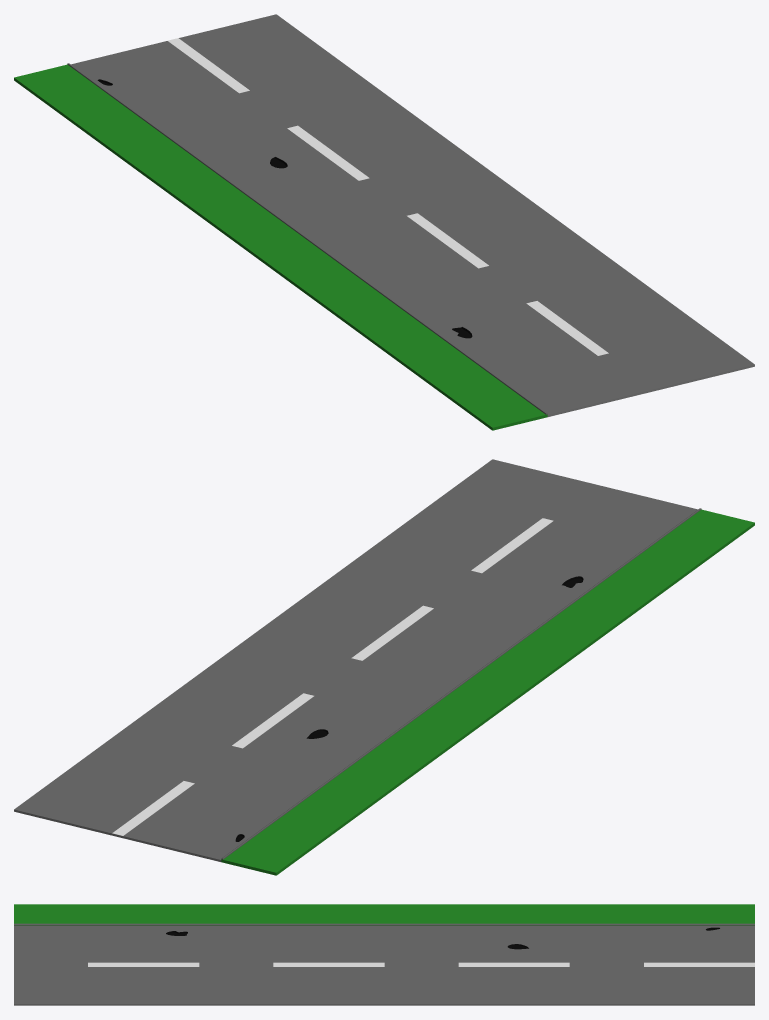
The model's file is Road.glb.
The picture shows the model from 3 angles, top to bottom: view 1: azimuth 30°, elevation 25°; view 2: azimuth 150°, elevation 25°; view 3: azimuth 270°, elevation 25°; orthographic projection. The views are drawn at different scales.
Visible parts, largest first — view 1: Solid2, Solid1, Solid3, Solid4; view 2: Solid2, Solid1, Solid3, Solid4; view 3: Solid2, Solid1, Solid3, Solid4.
Part boxes in pixels (left/top/right/bottom): Solid2: left=71, top=14, right=754, bottom=416; Solid1: left=14, top=64, right=547, bottom=430; Solid3: left=167, top=38, right=608, bottom=355; Solid4: left=67, top=63, right=547, bottom=414; Solid2: left=14, top=459, right=697, bottom=861; Solid1: left=221, top=509, right=754, bottom=875; Solid3: left=112, top=518, right=553, bottom=835; Solid4: left=221, top=508, right=701, bottom=859; Solid2: left=14, top=925, right=754, bottom=1005; Solid1: left=14, top=904, right=754, bottom=925; Solid3: left=88, top=962, right=754, bottom=966; Solid4: left=14, top=923, right=754, bottom=925.
Size of the model in its own units: 0.19 by 0.0028 by 0.6.
